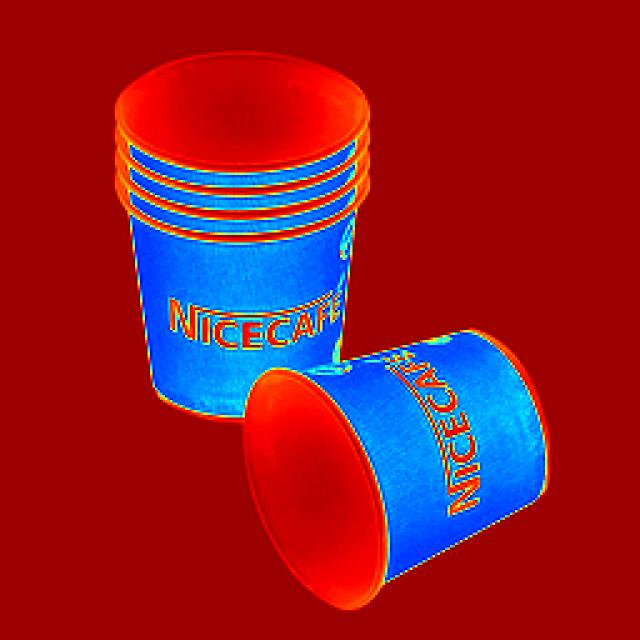Paper Cups: (109, 42, 380, 382), (239, 343, 533, 580)
